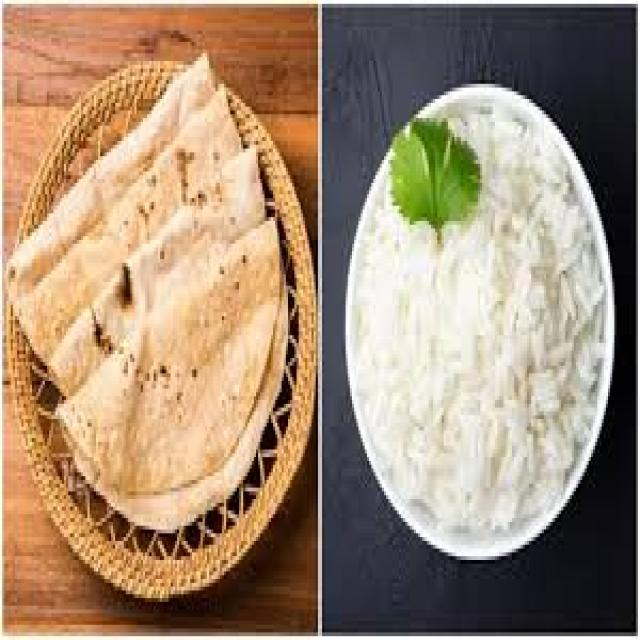ROTI: (60, 225, 279, 491), (21, 99, 239, 354), (11, 53, 213, 297), (49, 149, 262, 377)
